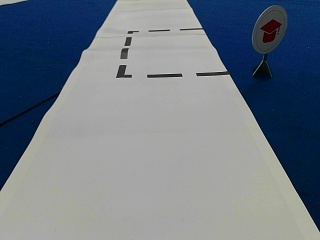school: (252, 5, 286, 53)
